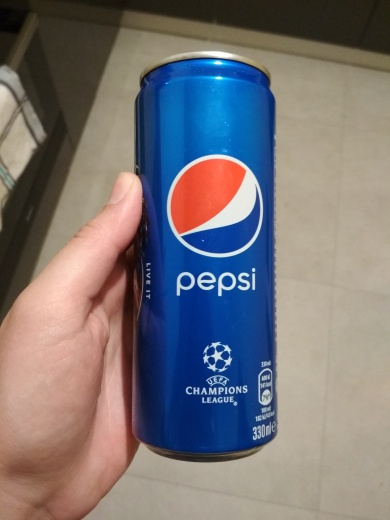pepsi: (115, 47, 288, 467)
